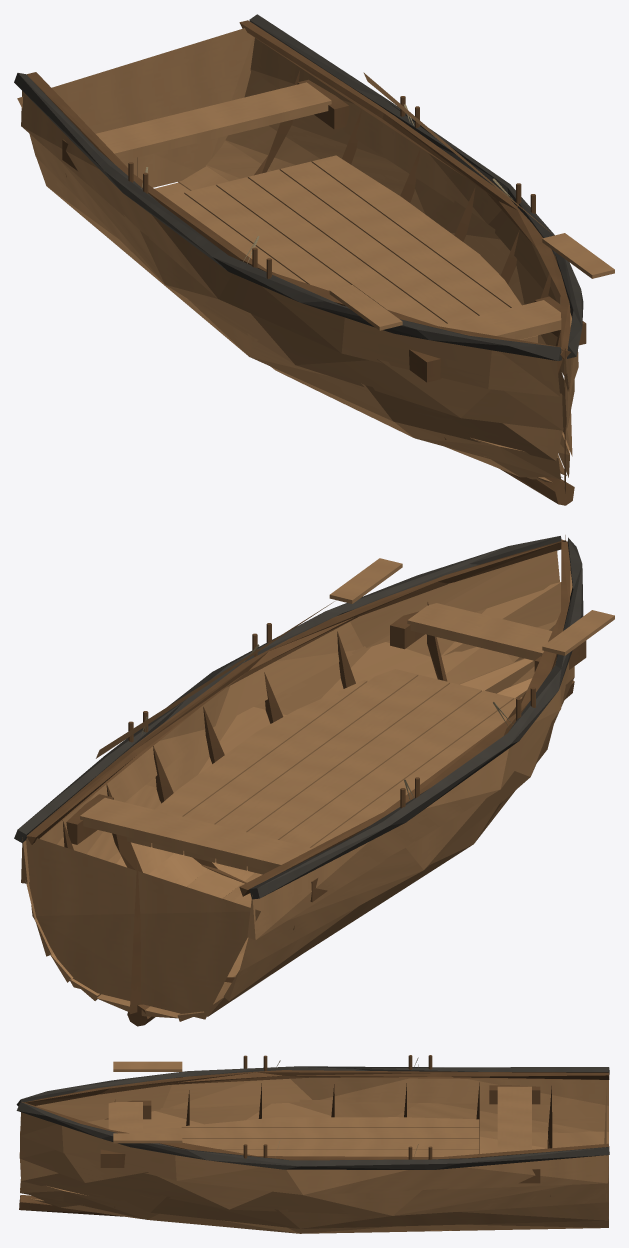
The model's file is ship_lod2.glb.
The picture shows the model from 3 angles, top to bottom: view 1: azimuth 30°, elevation 25°; view 2: azimuth 150°, elevation 25°; view 3: azimuth 270°, elevation 25°; orthographic projection. The views are drawn at different scales.
Parts seen in each view (by area): view 1: lod2_strake_starboard_06, lod2_strake_starboard_05, lod2_transom, lod2_strake_starboard_04, lod2_strake_port_06, lod2_gunwale_1_001, lod2_strake_port_05, lod2_end_thwart_00, lod2_sole_board_05, lod2_sole_board_04, lod2_sole_board_03, lod2_sole_board_06 (+16 smaller); view 2: lod2_transom, lod2_strake_port_06, lod2_strake_port_05, lod2_strake_starboard_06, lod2_strake_starboard_05, lod2_end_thwart_00, lod2_inwale_1, lod2_gunwale_1_001, lod2_sole_board_04, lod2_sole_board_03, lod2_sole_board_05, lod2_sole_board_02 (+17 smaller); view 3: lod2_strake_port_06, lod2_strake_port_05, lod2_strake_starboard_06, lod2_strake_port_04, lod2_strake_starboard_05, lod2_gunwale_1, lod2_inwale_1_001, lod2_strake_port_03, lod2_sole_board_01, lod2_sole_board_02, lod2_gunwale_1_001, lod2_sole_board_00 (+11 smaller).
Boxes of the visible parts, x1=… form: lod2_strake_starboard_06: x1=21, y1=91, x2=560, y2=396; lod2_strake_starboard_05: x1=29, y1=134, x2=563, y2=430; lod2_transom: x1=17, y1=28, x2=254, y2=187; lod2_strake_starboard_04: x1=36, y1=157, x2=562, y2=460; lod2_strake_port_06: x1=250, y1=38, x2=578, y2=393; lod2_gunwale_1_001: x1=14, y1=73, x2=562, y2=360; lod2_strake_port_05: x1=244, y1=71, x2=574, y2=427; lod2_end_thwart_00: x1=96, y1=82, x2=331, y2=161; lod2_sole_board_05: x1=280, y1=161, x2=537, y2=342; lod2_sole_board_04: x1=248, y1=169, x2=478, y2=323; lod2_sole_board_03: x1=216, y1=177, x2=446, y2=325; lod2_sole_board_06: x1=312, y1=155, x2=521, y2=307; lod2_transom: x1=26, y1=838, x2=260, y2=1019; lod2_strake_port_06: x1=21, y1=551, x2=559, y2=883; lod2_strake_port_05: x1=25, y1=582, x2=560, y2=921; lod2_strake_starboard_06: x1=247, y1=571, x2=572, y2=940; lod2_strake_starboard_05: x1=239, y1=666, x2=574, y2=971; lod2_end_thwart_00: x1=80, y1=797, x2=312, y2=871; lod2_inwale_1: x1=26, y1=540, x2=565, y2=844; lod2_gunwale_1_001: x1=249, y1=537, x2=583, y2=899; lod2_sole_board_04: x1=184, y1=675, x2=449, y2=862; lod2_sole_board_03: x1=216, y1=682, x2=481, y2=870; lod2_sole_board_05: x1=152, y1=669, x2=418, y2=854; lod2_sole_board_02: x1=248, y1=690, x2=513, y2=874; lod2_strake_port_06: x1=20, y1=1112, x2=608, y2=1194; lod2_strake_port_05: x1=19, y1=1133, x2=608, y2=1215; lod2_strake_starboard_06: x1=20, y1=1077, x2=608, y2=1129; lod2_strake_port_04: x1=20, y1=1159, x2=608, y2=1228; lod2_strake_starboard_05: x1=19, y1=1099, x2=608, y2=1153; lod2_gunwale_1: x1=16, y1=1102, x2=609, y2=1169; lod2_inwale_1_001: x1=19, y1=1070, x2=609, y2=1105; lod2_strake_port_03: x1=20, y1=1181, x2=608, y2=1233; lod2_sole_board_01: x1=155, y1=1128, x2=479, y2=1138; lod2_sole_board_02: x1=182, y1=1138, x2=479, y2=1149; lod2_gunwale_1_001: x1=16, y1=1066, x2=609, y2=1106; lod2_sole_board_00: x1=181, y1=1117, x2=479, y2=1127.
Bounding box in the file's own units: 1.31 × 0.7501 × 3.31.
Materials: 4 (4 with a texture image).
